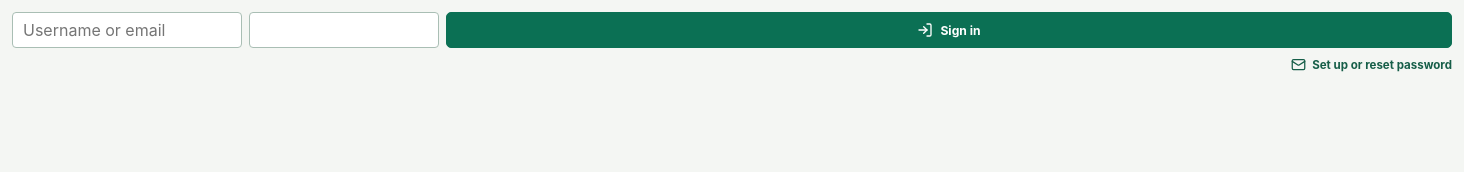
AuthPanel › sends a setup or reset link to the entered email
Type "member@example.com" into the field labelled "Username or email" at (127, 30), box [12,12,242,48]
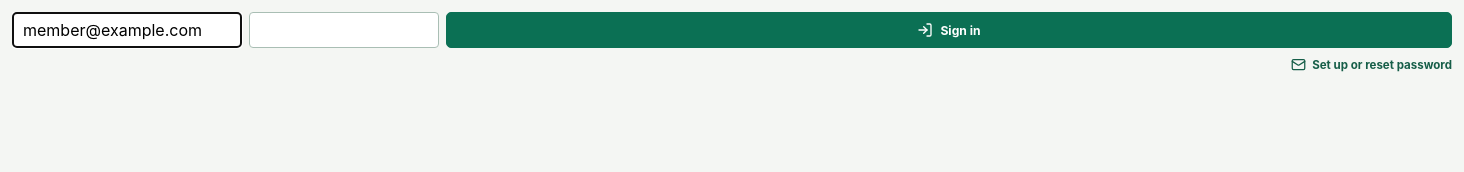
Click the button "Set up or reset password" at (1372, 64), box [1291,55,1452,74]
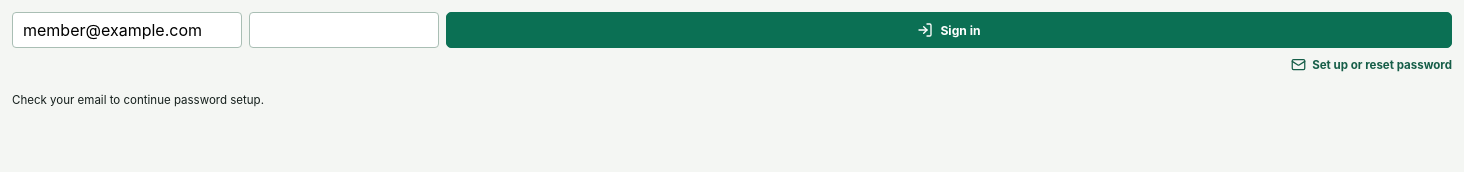
expect the text "Check your email to continue password setup." is shown: met, box [12,92,264,106]
